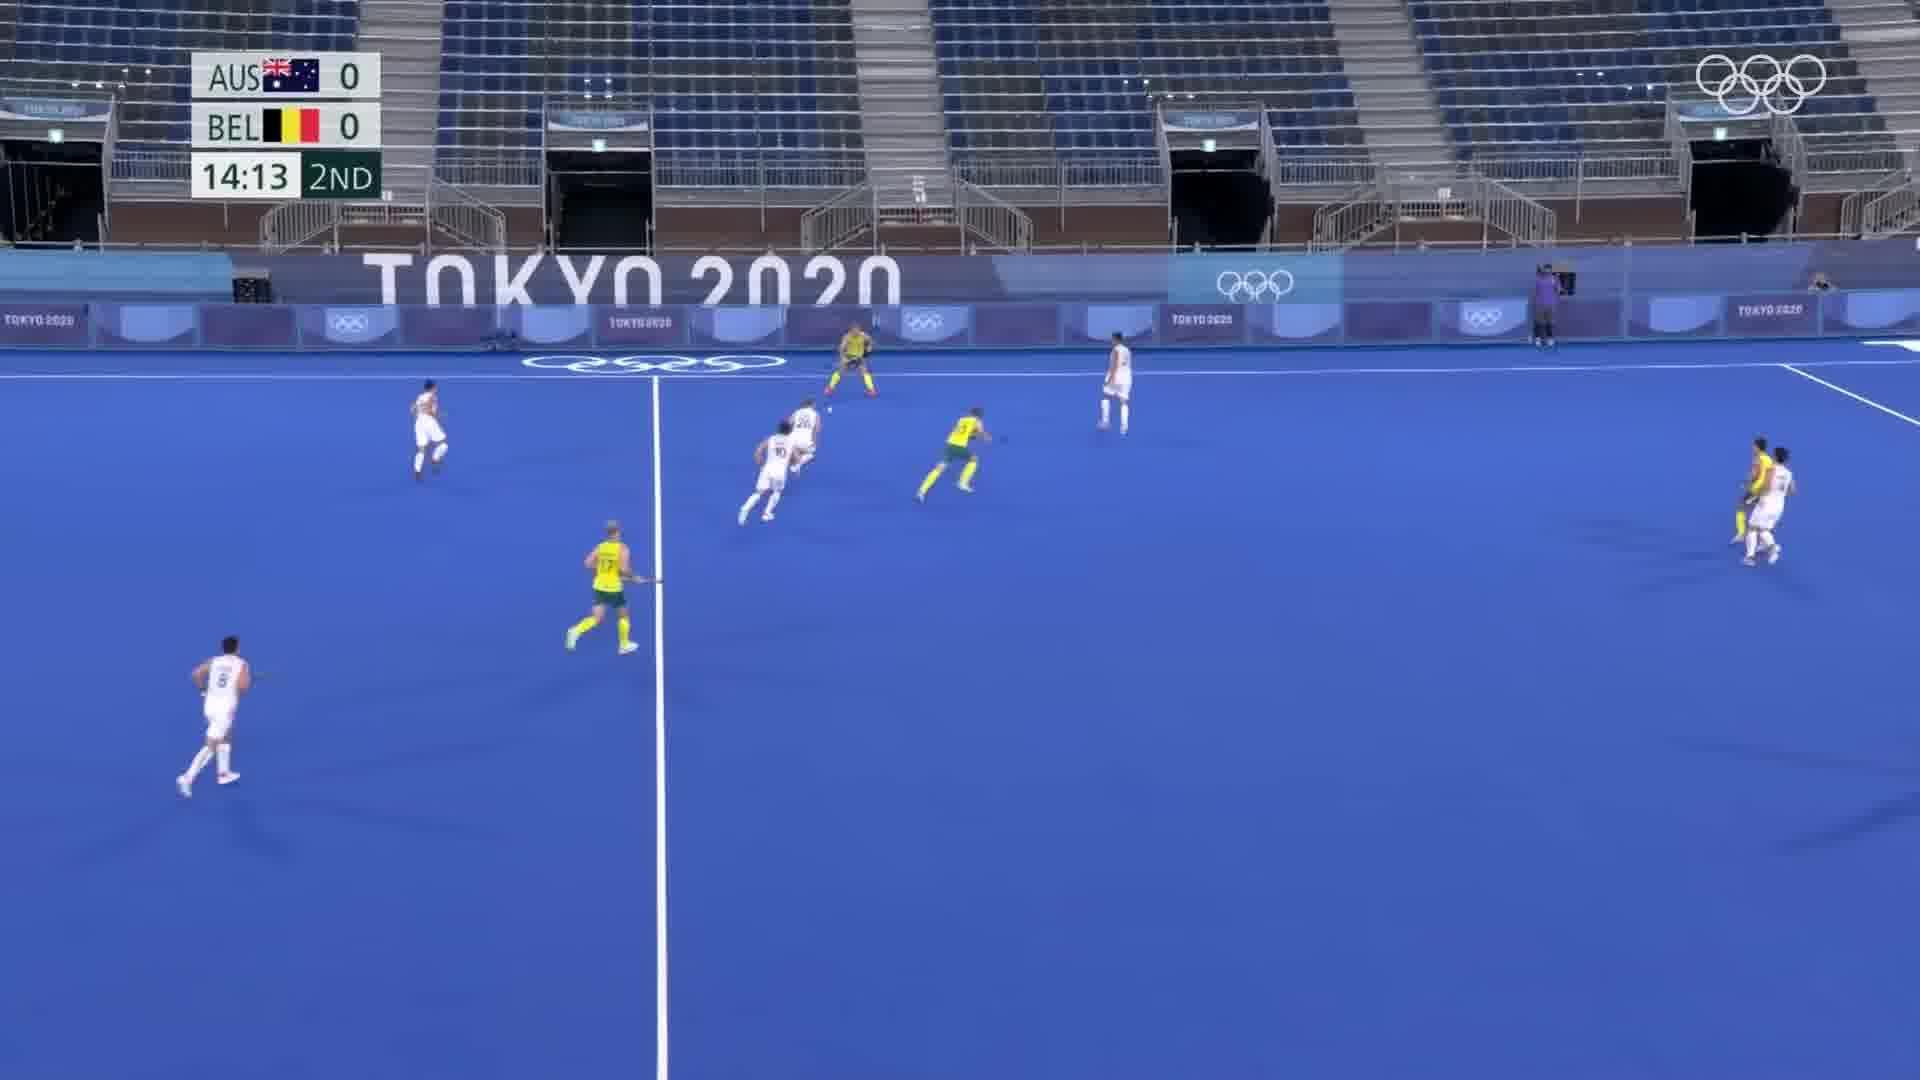ball: (825, 406, 833, 414)
